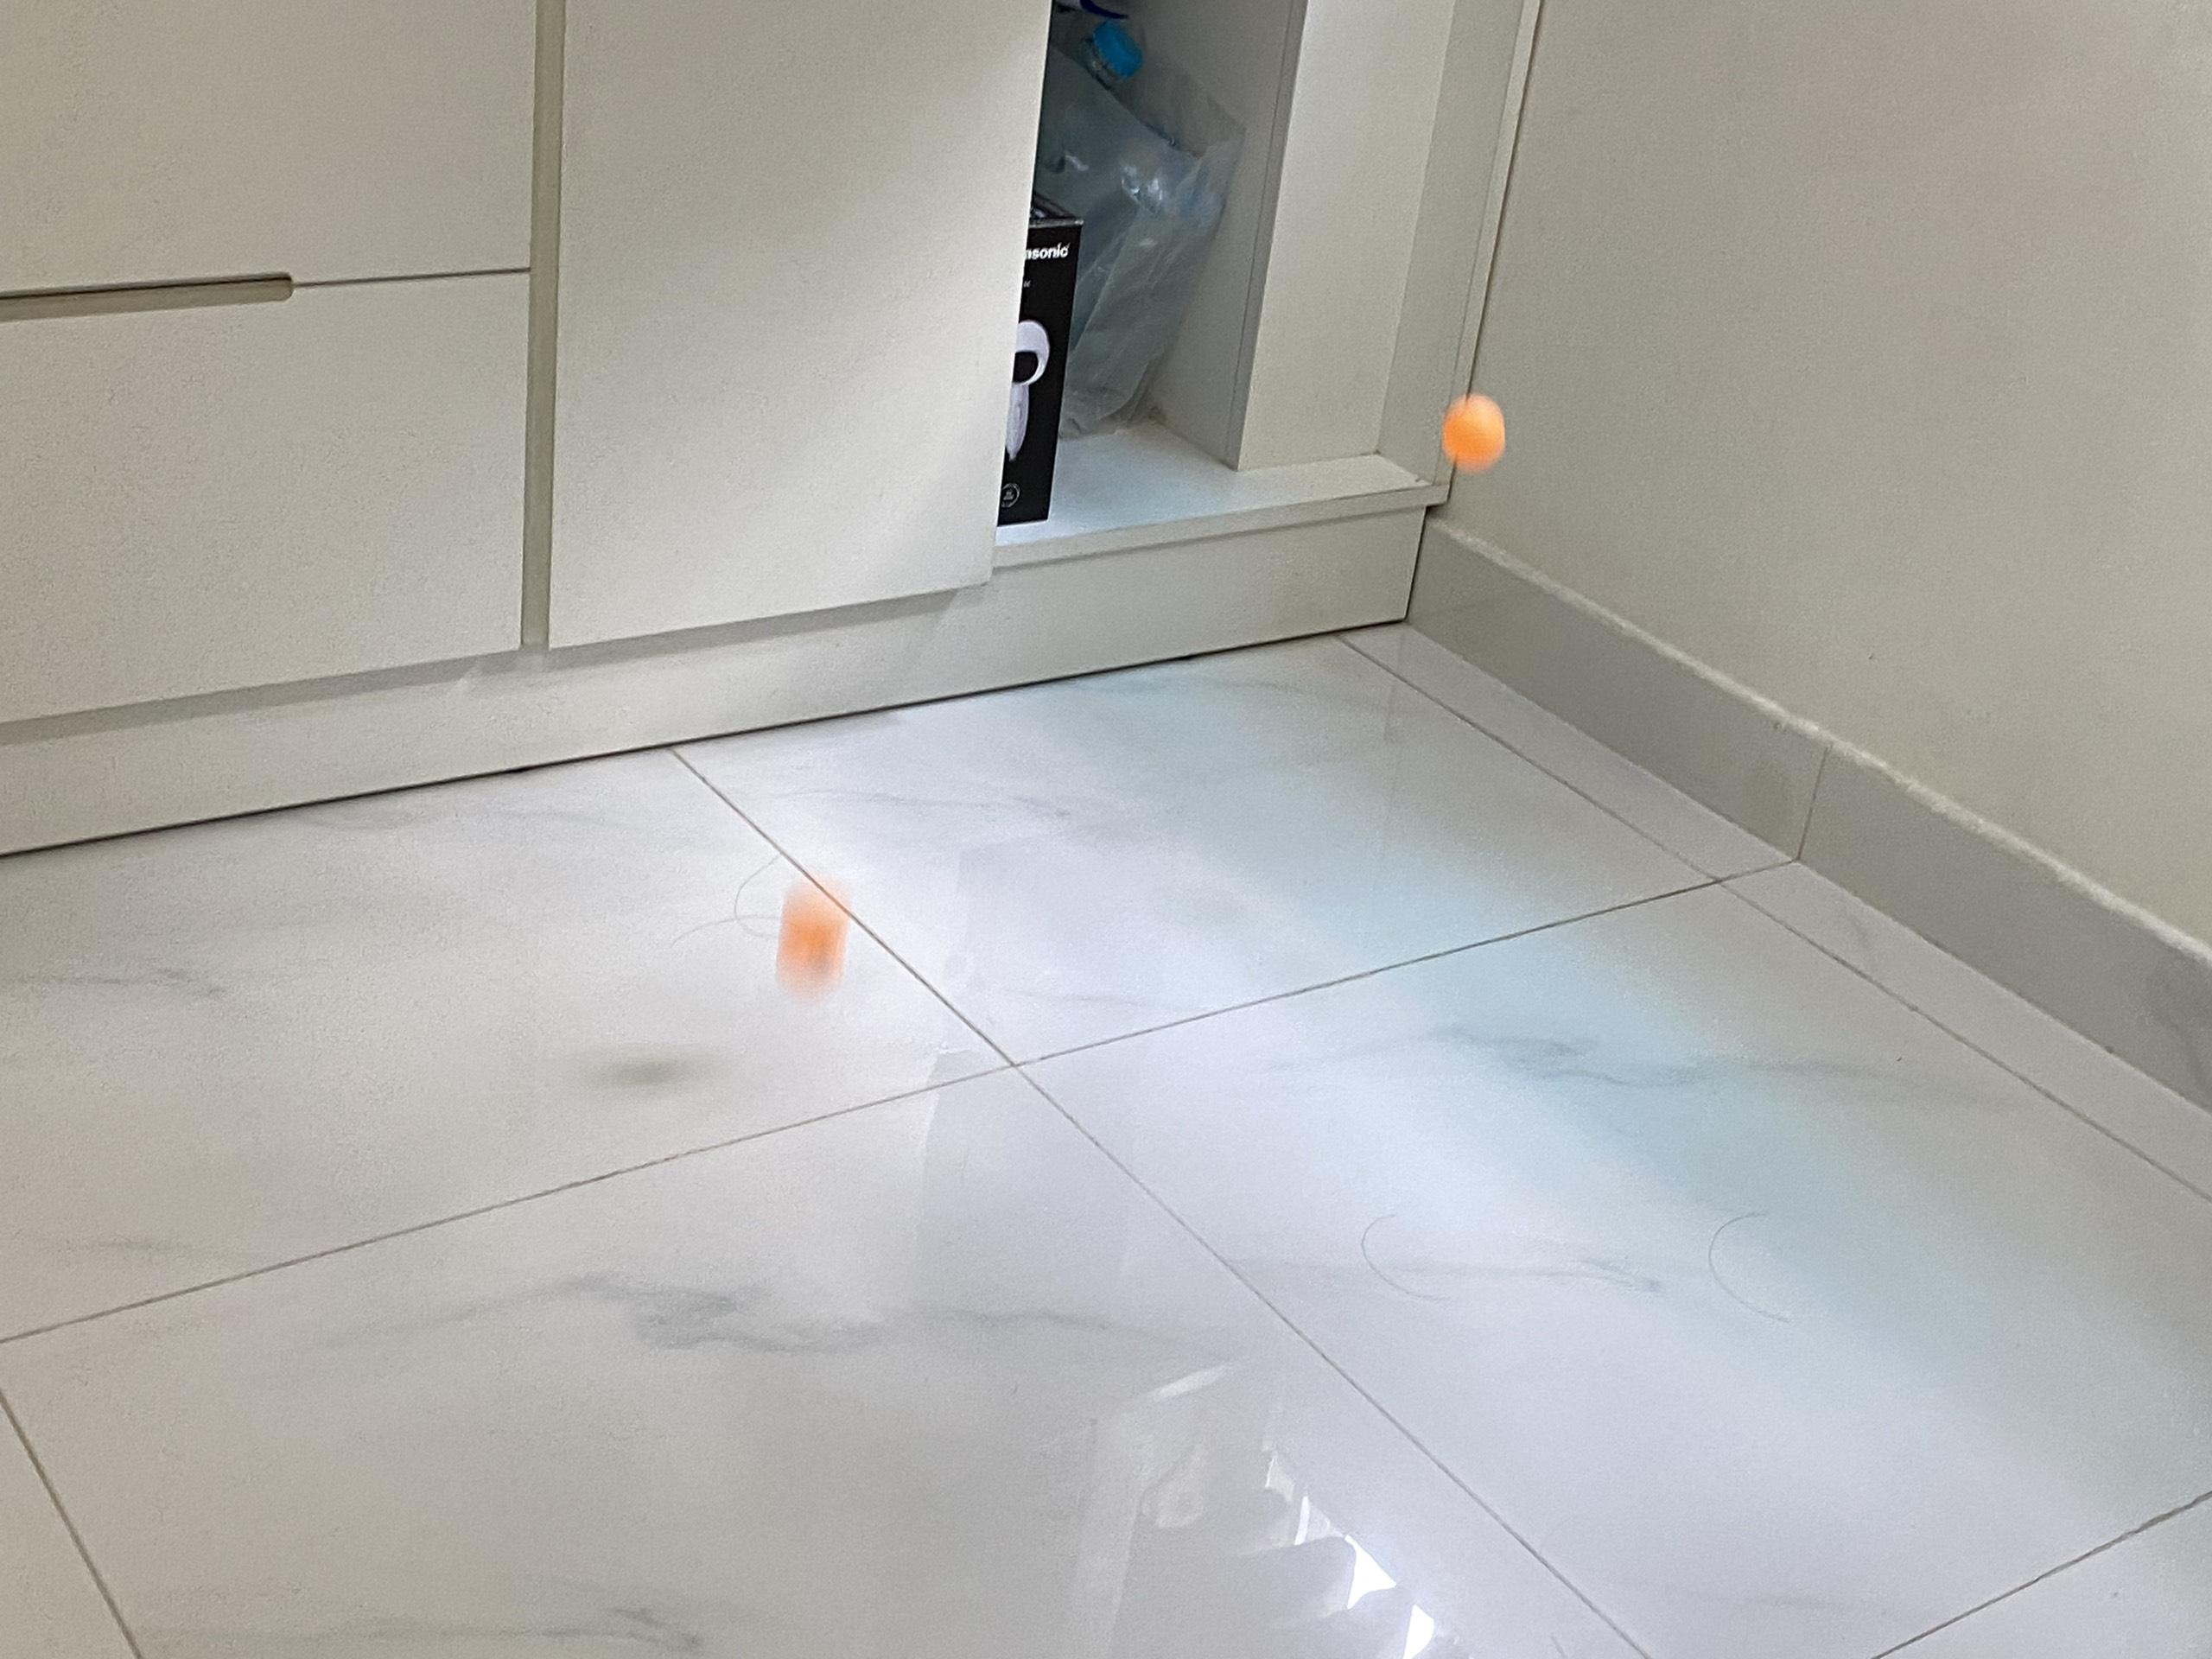oball: (782, 885, 848, 983), (1446, 399, 1508, 462)
